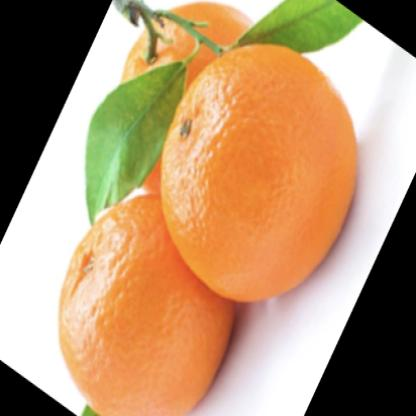fresh: (55, 1, 356, 416)
